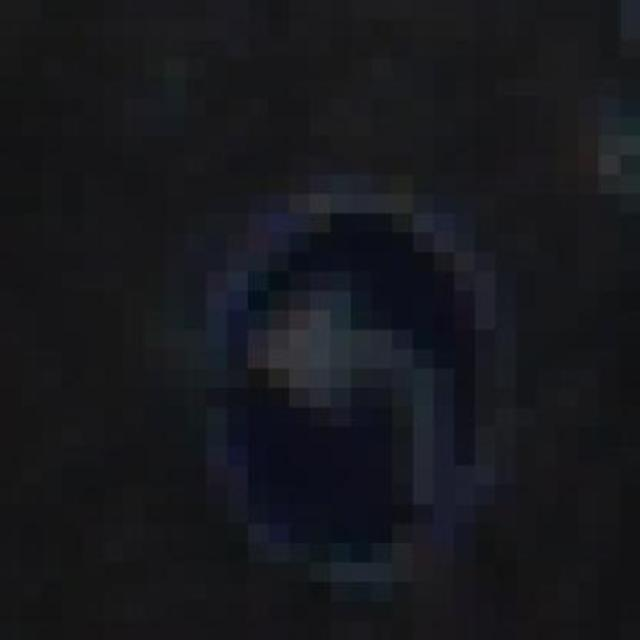Turn left ahead: (165, 149, 537, 576)
